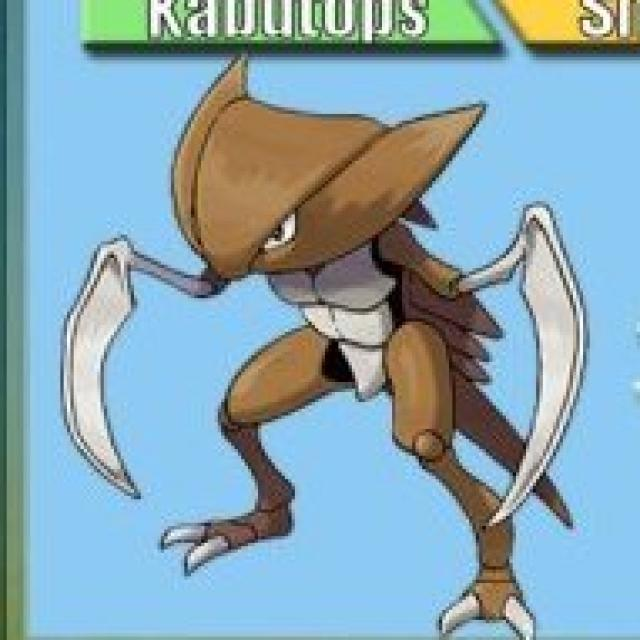Kabutops: (164, 63, 590, 579)
